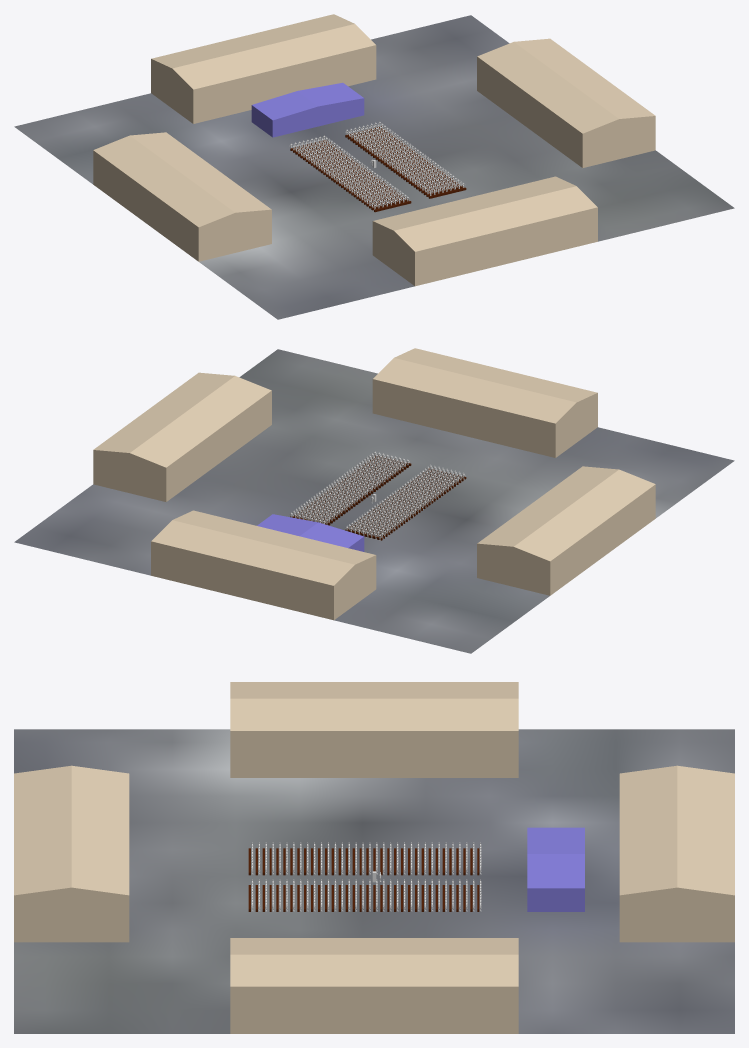
The model's file is TitanLevel.fbx.
3 renders of one model, top to bottom at view 1: azimuth 30°, elevation 25°; view 2: azimuth 150°, elevation 25°; view 3: azimuth 270°, elevation 25°, orthographic. The views are drawn at different scales.
Parts seen in each view (by area): view 1: Ground, House.001, House, House.003, House.002, Scene, benchHuman, benchHuman.001, bench.001, bench; view 2: Ground, House.001, House, House.003, House.002, benchHuman.001, benchHuman, bench, Scene, bench.001; view 3: Ground, House.002, House.003, House, House.001, Scene, bench, bench.001, benchHuman, benchHuman.001.
Part boxes in pixels (x1=…): Ground: x1=14, y1=15, x2=734, y2=319; House.001: x1=372, y1=176, x2=597, y2=286; House: x1=151, y1=14, x2=376, y2=123; House.003: x1=477, y1=38, x2=655, y2=167; House.002: x1=93, y1=132, x2=271, y2=261; Scene: x1=251, y1=82, x2=364, y2=137; benchHuman: x1=345, y1=121, x2=464, y2=195; benchHuman.001: x1=289, y1=135, x2=409, y2=209; bench.001: x1=345, y1=126, x2=466, y2=198; bench: x1=290, y1=140, x2=411, y2=212; Ground: x1=14, y1=349, x2=734, y2=653; House.001: x1=372, y1=348, x2=597, y2=457; House: x1=151, y1=510, x2=376, y2=620; House.003: x1=93, y1=372, x2=271, y2=501; House.002: x1=477, y1=466, x2=655, y2=595; benchHuman.001: x1=345, y1=464, x2=465, y2=540; benchHuman: x1=289, y1=451, x2=409, y2=524; bench: x1=345, y1=468, x2=466, y2=540; Scene: x1=257, y1=514, x2=364, y2=551; bench.001: x1=290, y1=455, x2=411, y2=525; Ground: x1=14, y1=729, x2=734, y2=1033; House.002: x1=230, y1=682, x2=518, y2=777; House.003: x1=230, y1=938, x2=518, y2=1033; House: x1=619, y1=765, x2=734, y2=942; House.001: x1=14, y1=765, x2=129, y2=942; Scene: x1=527, y1=827, x2=584, y2=911; bench: x1=248, y1=848, x2=479, y2=875; bench.001: x1=248, y1=885, x2=479, y2=911; benchHuman: x1=251, y1=879, x2=481, y2=911; benchHuman.001: x1=251, y1=842, x2=481, y2=874.
Bounding box in the file's own units: 25000 × 2100 × 25000.
5 materials, 1 textured.
